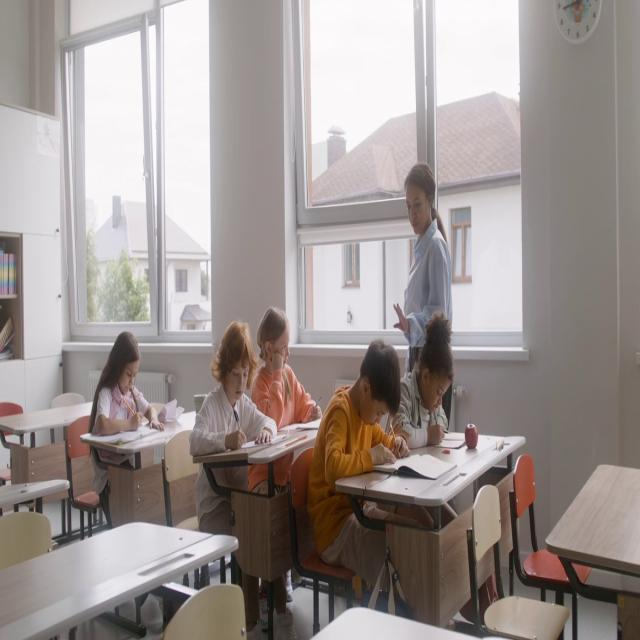reading: (252, 306, 321, 471)
writing: (308, 342, 421, 620), (189, 322, 284, 640), (88, 331, 166, 527), (395, 310, 456, 446)
